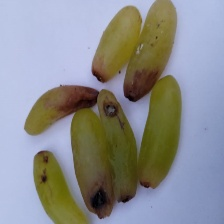grapes: (21, 13, 199, 201)
